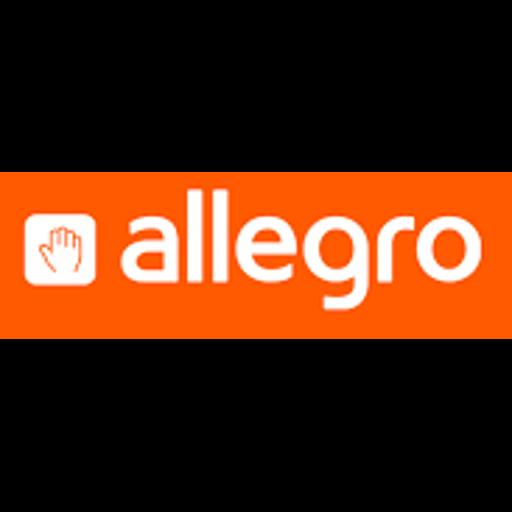Allegro: (0, 172, 512, 339)
